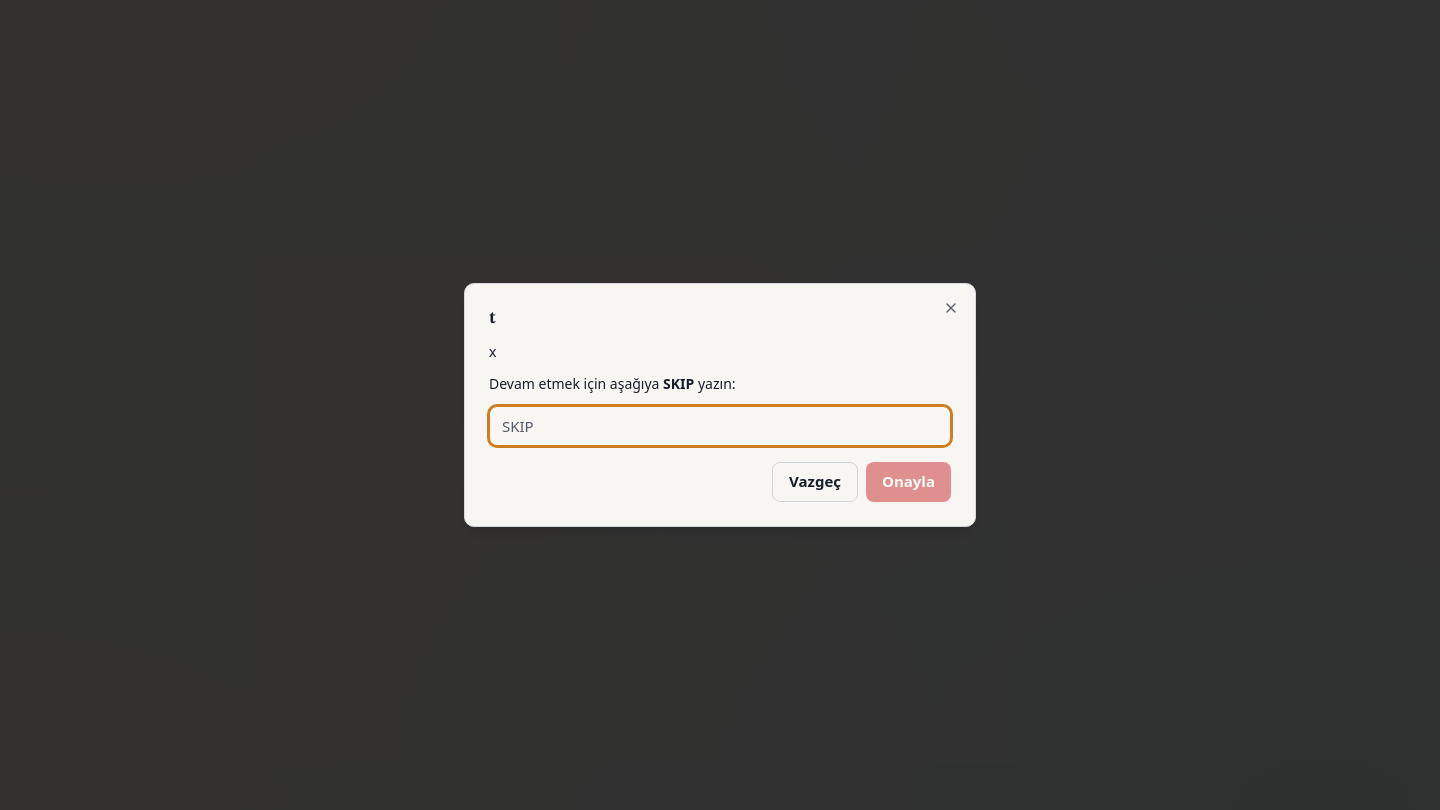
Test: TypedConfirmDialog › confirm button disabled until exact word typed
Expected: the button "Onayla" is disabled, [866,462,951,502]
Type "skip" into the field named "SKIP yazınız". click: (720, 426)
box: [489,406,951,446]
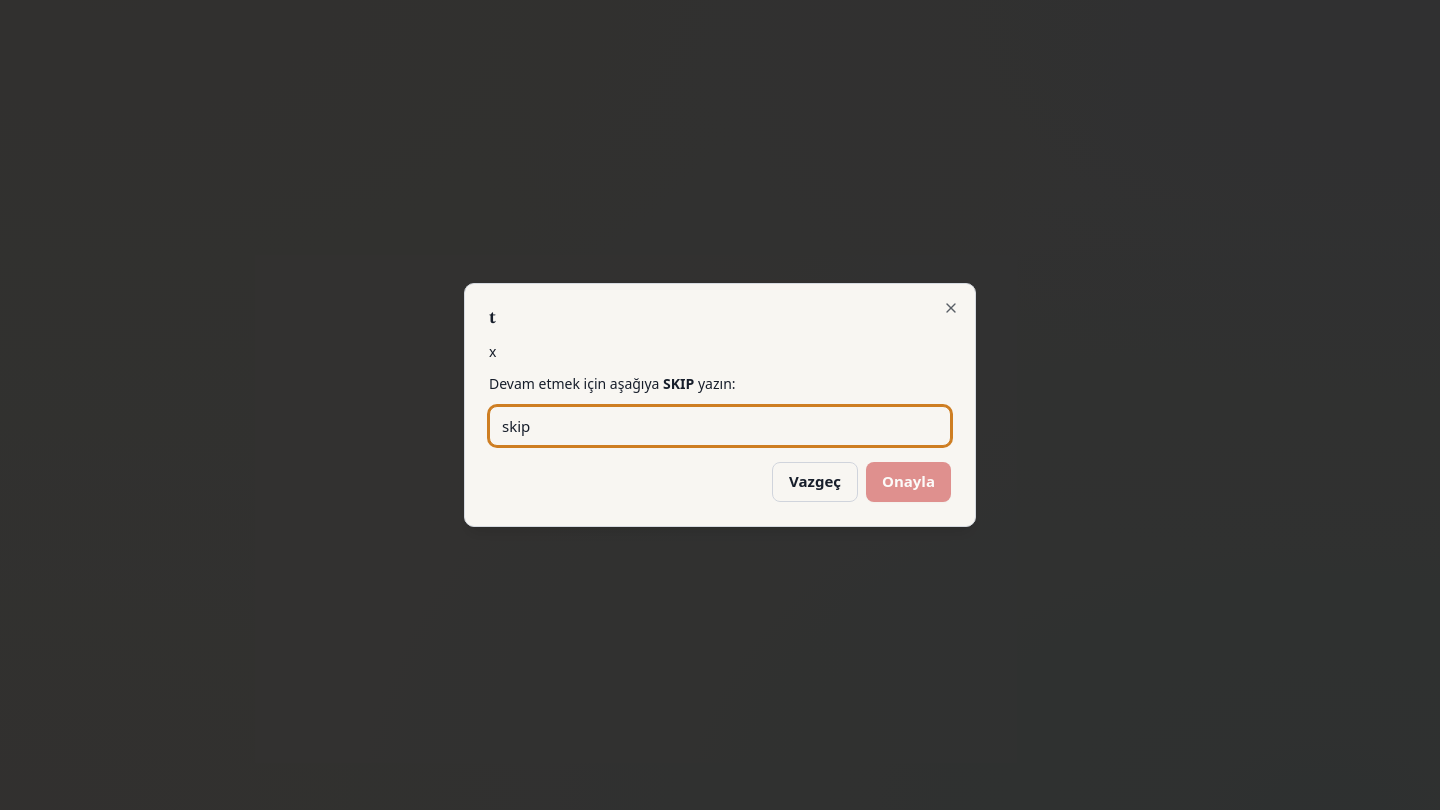
Expected: the button "Onayla" is disabled, [866,462,951,502]
Replace the text in the field named "SKIP yazınız" with "SKIP". click: (720, 426)
box: [489,406,951,446]
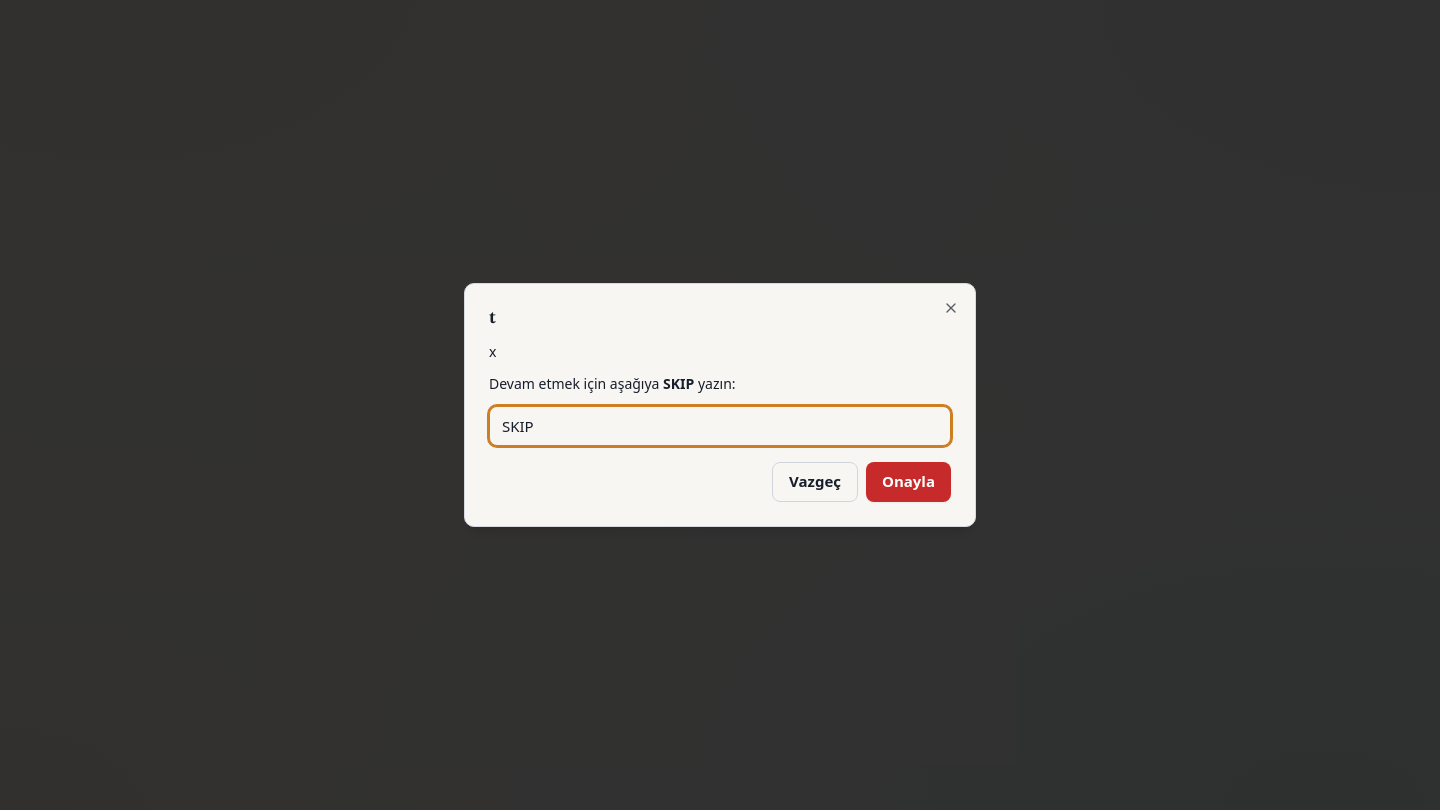
Now the button "Onayla" is enabled, box [866,462,951,502]
